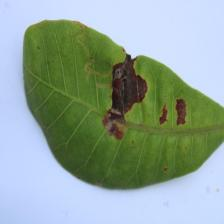leaf miner: (21, 18, 224, 190)
